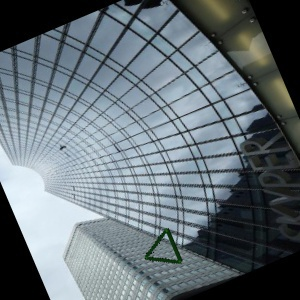triangle: (143, 227, 183, 266)
